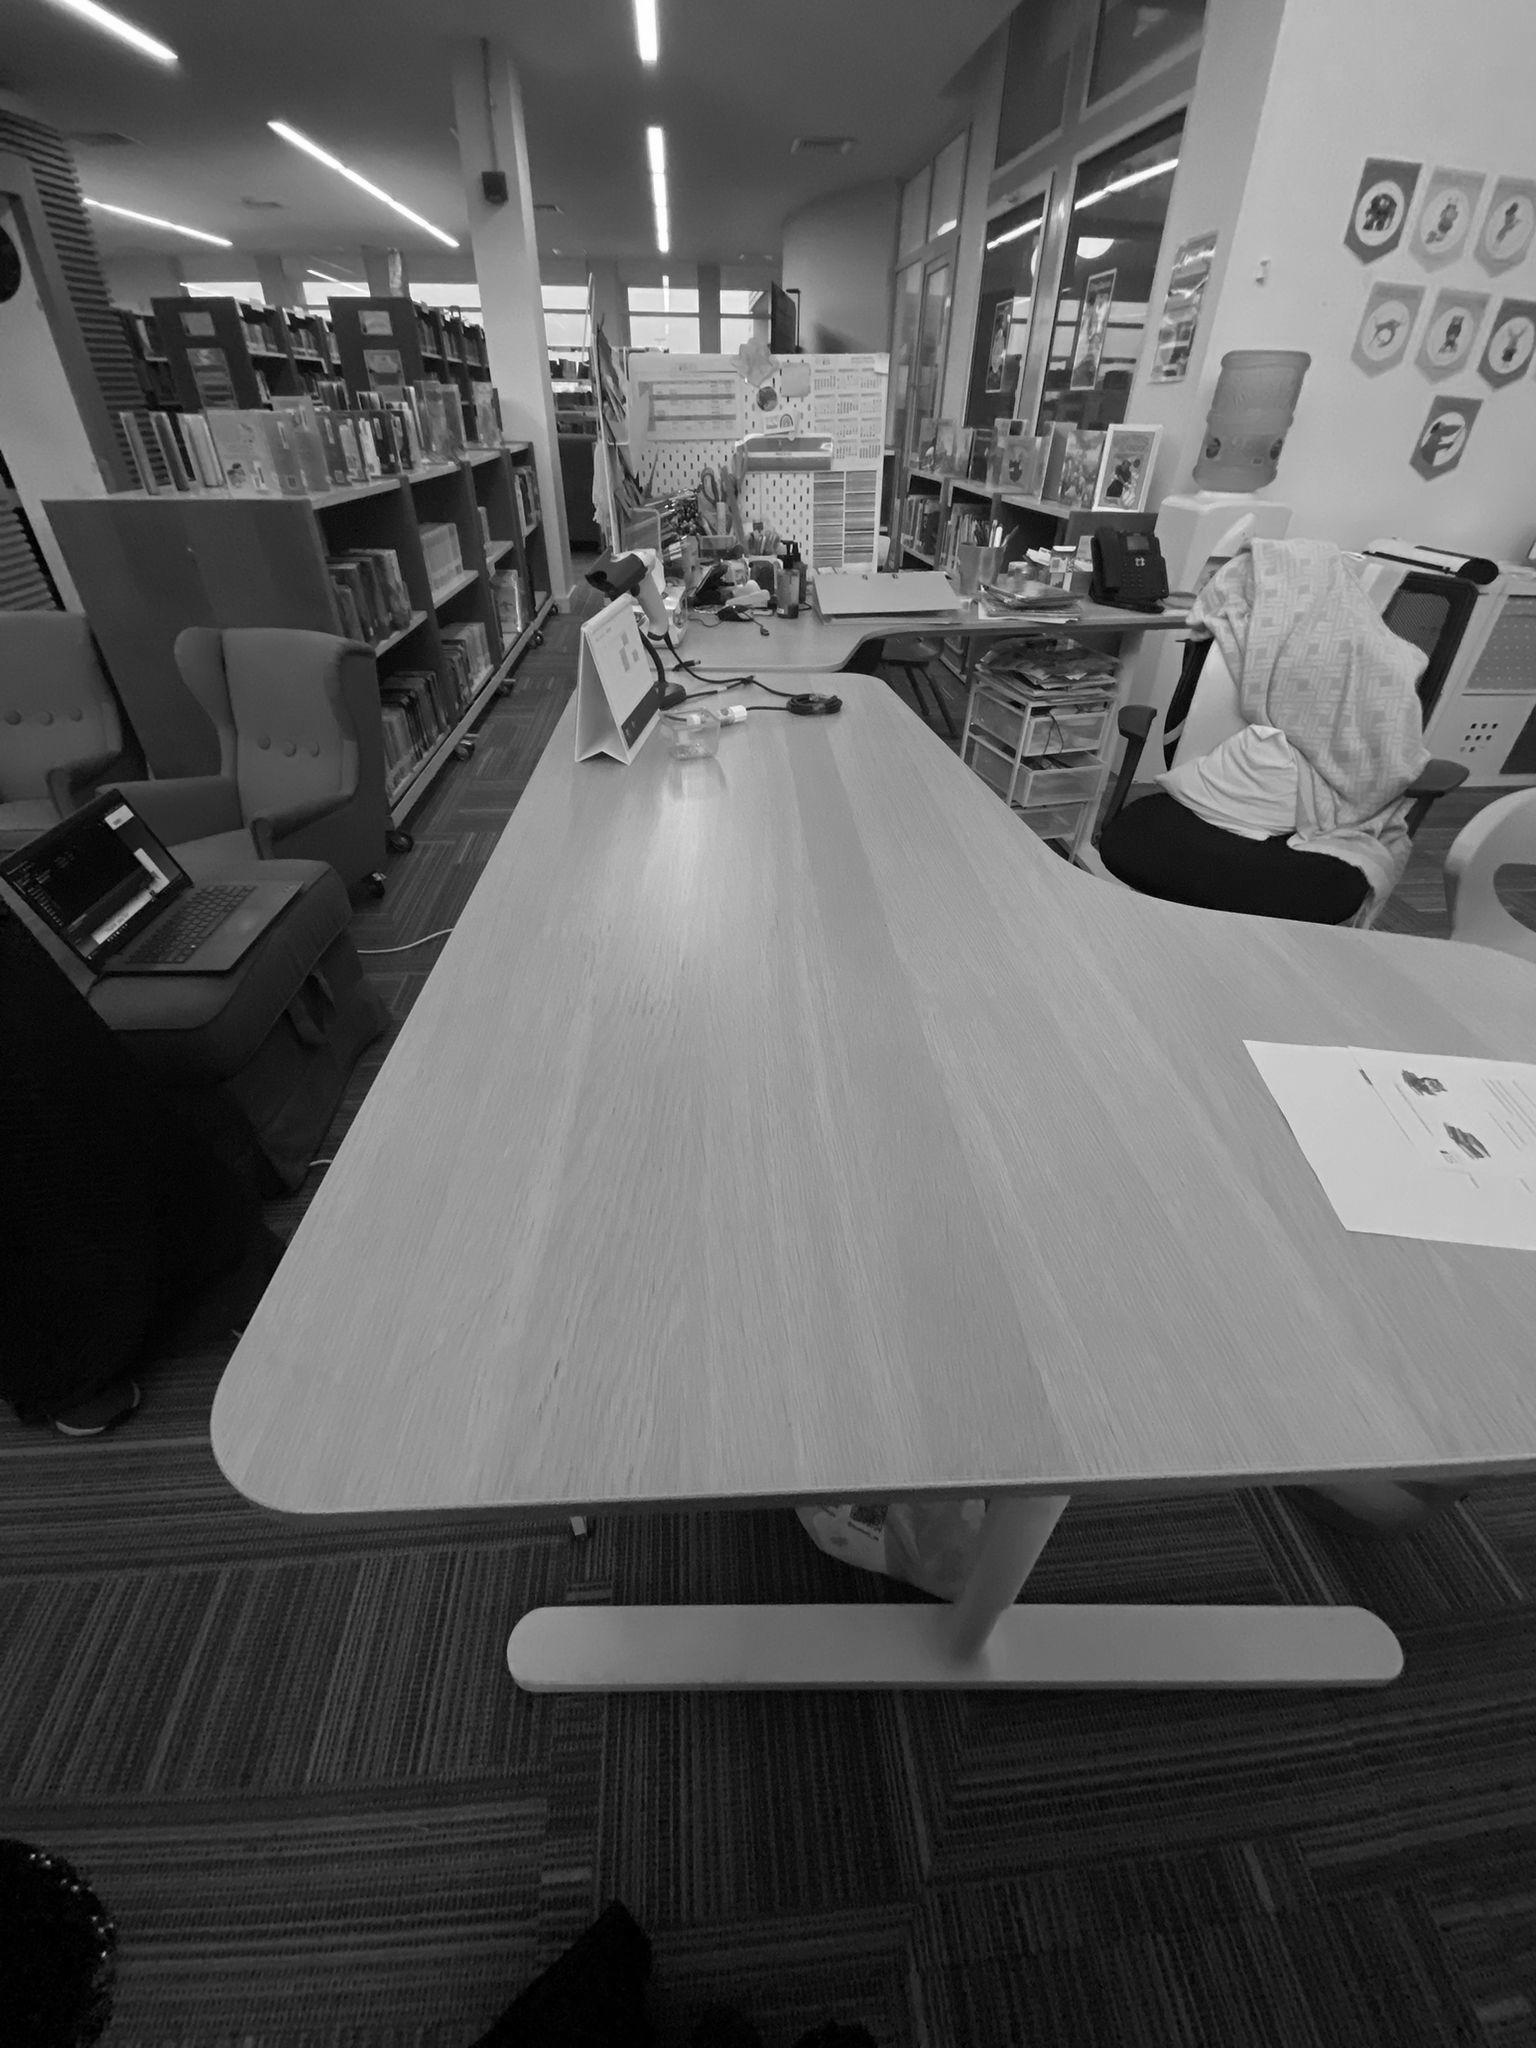Chair: (1105, 710, 1347, 922), (1443, 787, 1535, 964), (1383, 569, 1472, 737), (1407, 761, 1465, 842), (1173, 652, 1206, 714)
Couch: (149, 628, 388, 894)
Table: (211, 613, 1535, 1692)
